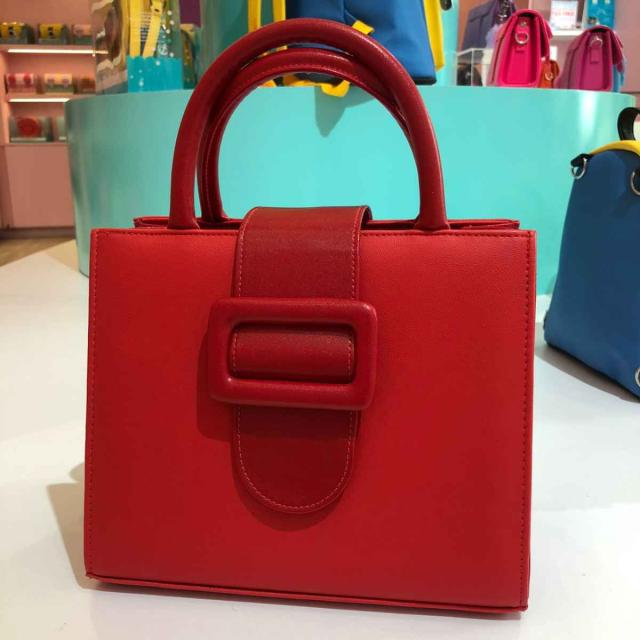Handbag: (84, 123, 536, 611)
